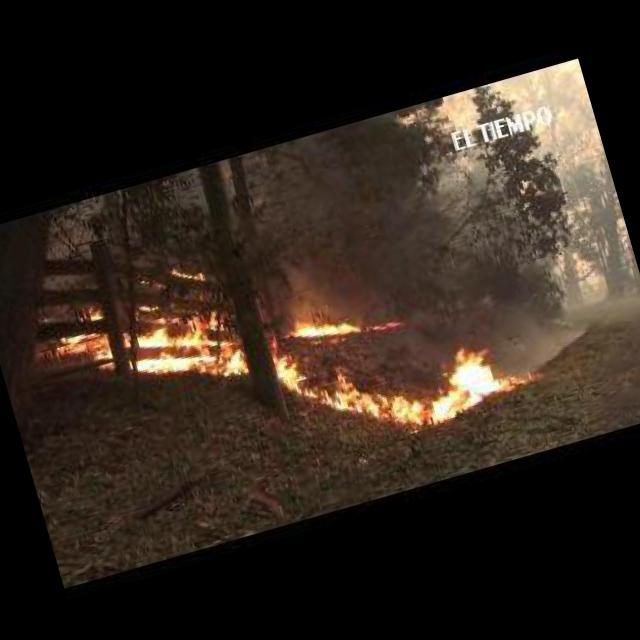fire: (314, 319, 520, 452), (154, 292, 218, 399), (267, 331, 315, 404), (288, 305, 360, 349), (59, 325, 117, 378), (170, 260, 208, 290), (366, 312, 406, 334), (84, 301, 105, 322)
